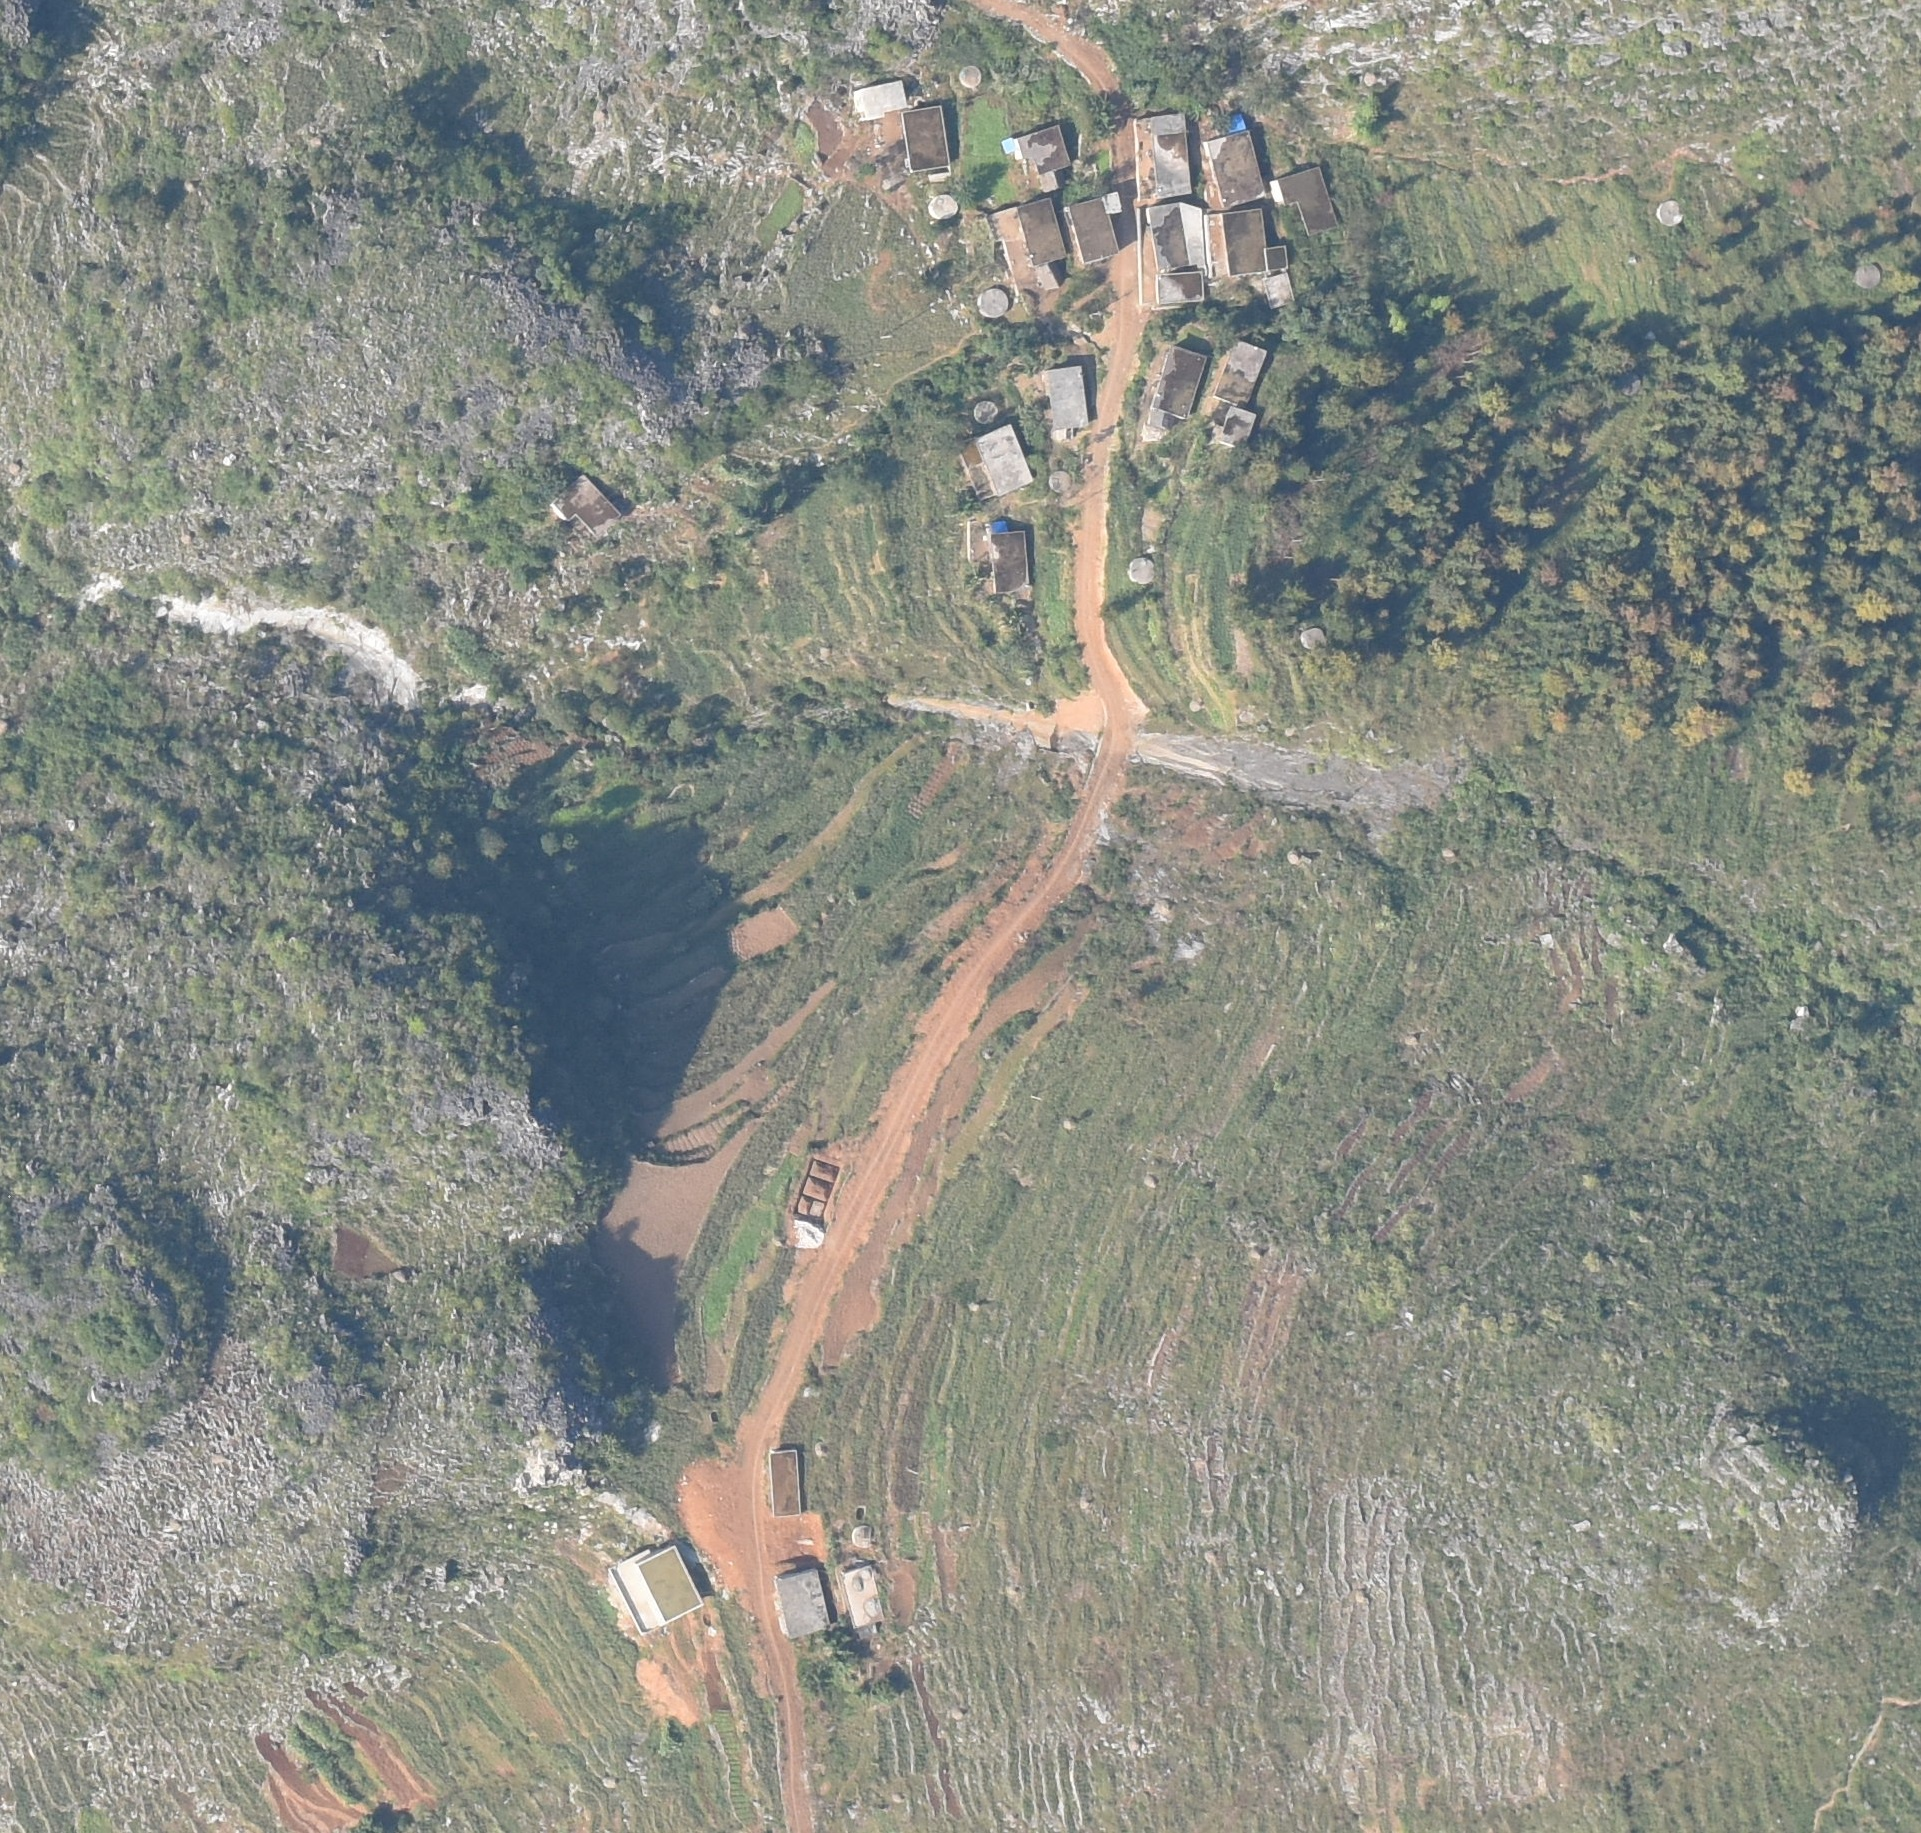building: (610, 1545, 702, 1640), (994, 196, 1070, 288), (962, 425, 1032, 497), (1148, 344, 1205, 427), (551, 474, 623, 539), (968, 523, 1032, 593), (1003, 126, 1071, 190), (1206, 132, 1265, 205), (1272, 165, 1336, 232), (1068, 193, 1128, 264), (772, 1565, 828, 1641), (1148, 203, 1205, 271), (1149, 112, 1191, 199), (901, 104, 953, 173), (1216, 338, 1266, 407), (1044, 365, 1092, 429), (835, 1565, 885, 1623), (1222, 209, 1265, 275), (767, 1450, 806, 1516), (853, 80, 906, 122), (1222, 405, 1257, 451), (1157, 274, 1205, 304), (1262, 273, 1298, 311), (1263, 244, 1289, 271)
prefabricated-house: (1217, 113, 1248, 134)
well: (977, 288, 1011, 319), (1855, 258, 1884, 291), (927, 192, 961, 220), (1127, 556, 1158, 585), (1656, 198, 1684, 228), (1301, 625, 1329, 654), (972, 399, 1000, 427), (959, 63, 983, 90), (1048, 468, 1072, 494)
